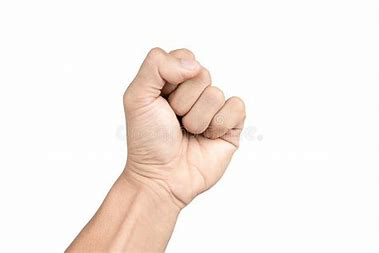closed: (122, 46, 247, 205)
